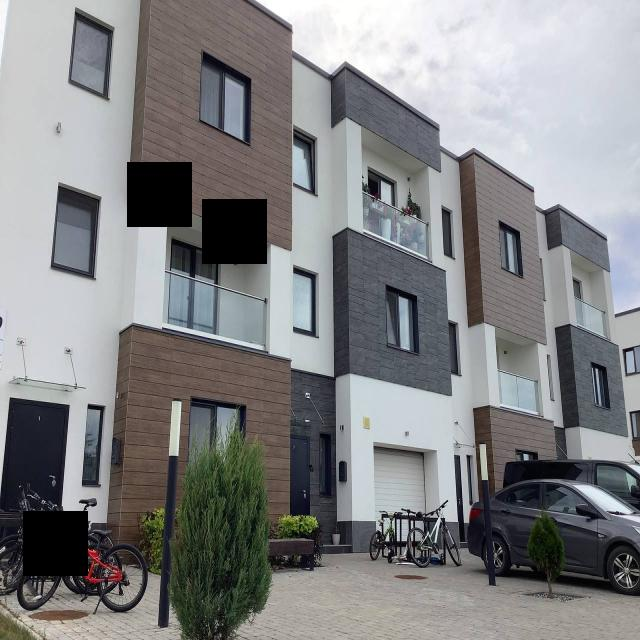Building: (0, 0, 638, 549)
